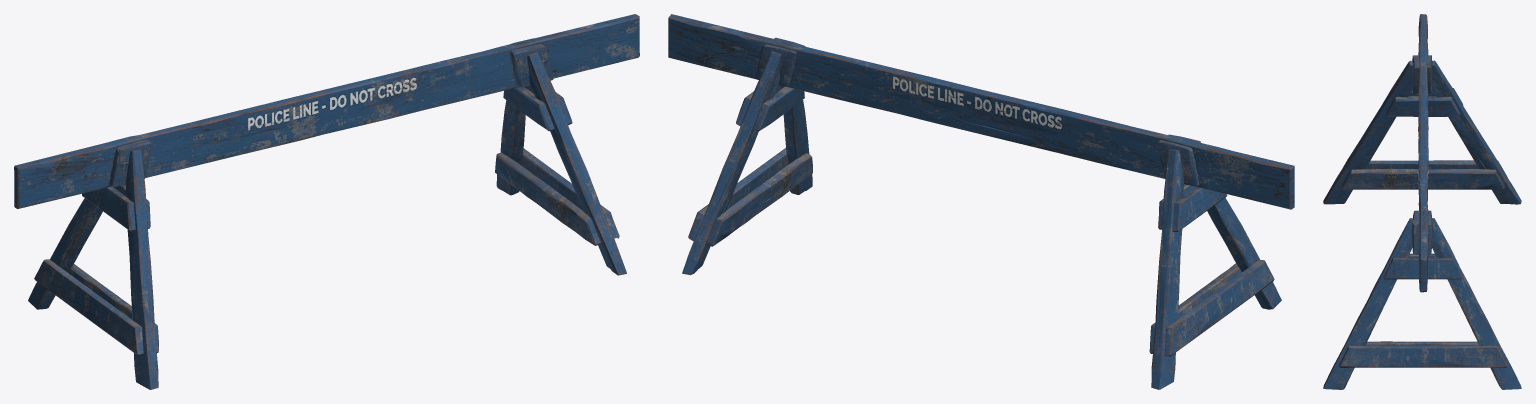
Rendered from SM_Wooden_Barrier.glb.
3 renders of one model, left to right at view 1: azimuth 30°, elevation 25°; view 2: azimuth 150°, elevation 25°; view 3: azimuth 270°, elevation 25°, orthographic. The views are drawn at different scales.
Parts seen in each view (by area): view 1: SM_Wooden_Barrier; view 2: SM_Wooden_Barrier; view 3: SM_Wooden_Barrier.
Part boxes in pixels (x1,y1,x2,y2): SM_Wooden_Barrier: [14, 14, 639, 389]; SM_Wooden_Barrier: [668, 14, 1294, 389]; SM_Wooden_Barrier: [1323, 14, 1521, 389].
Bounding box in the file's own units: 2.75 × 0.8268 × 0.9399.
1 material, 1 textured.
